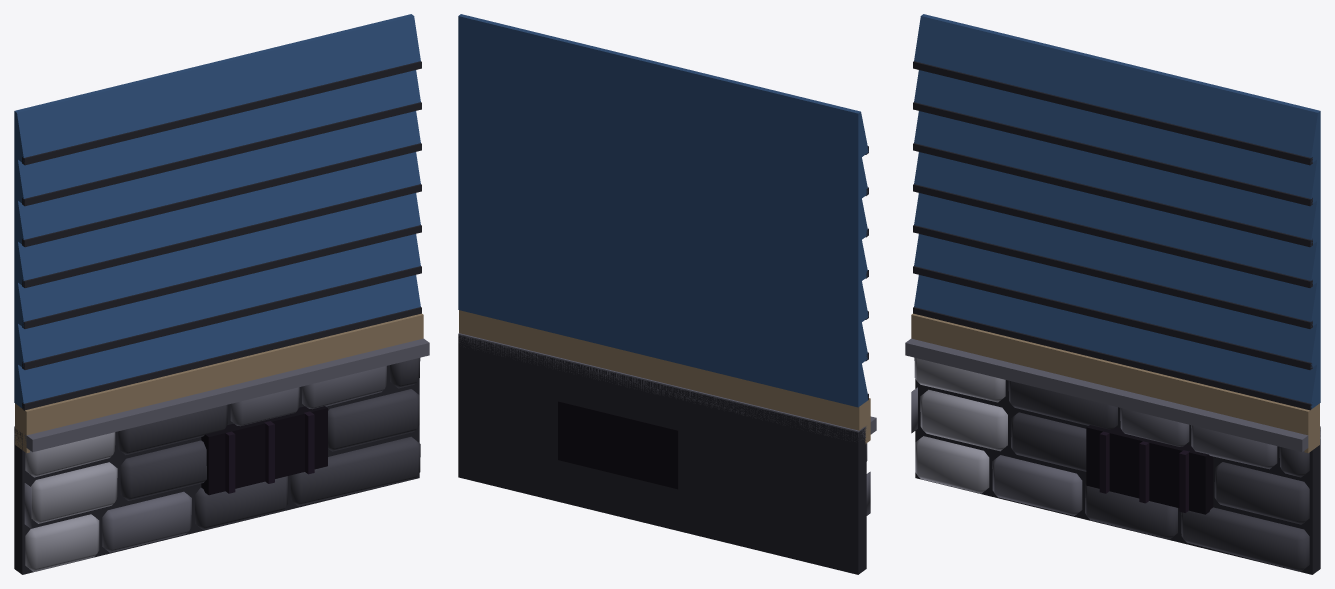
File: kit_clap_low_b.glb
3 renders of one model, left to right at view 1: azimuth 30°, elevation 25°; view 2: azimuth 150°, elevation 25°; view 3: azimuth 330°, elevation 25°, orthographic.
Parts seen in each view (by area): view 1: kit_clap_low_b; view 2: kit_clap_low_b; view 3: kit_clap_low_b.
Part boxes in pixels (left/top/right/bottom): kit_clap_low_b: left=14, top=14, right=429, bottom=574; kit_clap_low_b: left=458, top=14, right=876, bottom=574; kit_clap_low_b: left=905, top=14, right=1320, bottom=574.
Size of the model in its own units: 1 by 1.1 by 0.085.
